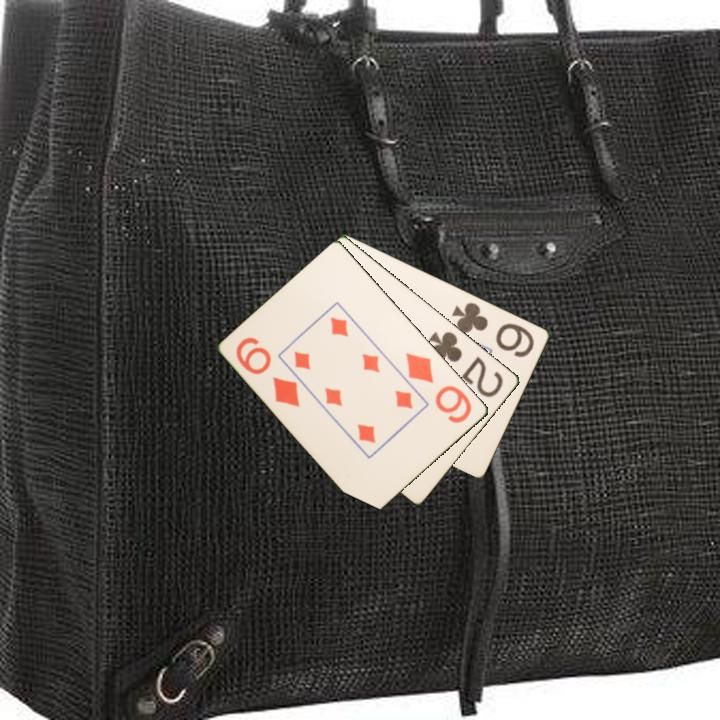2c: (425, 328, 507, 401)
6c: (449, 298, 537, 360)
6d: (402, 349, 475, 426), (232, 333, 303, 410)
